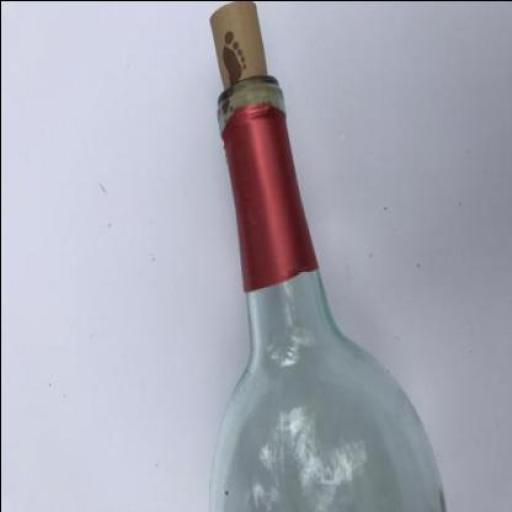glass: (210, 75, 444, 511)
